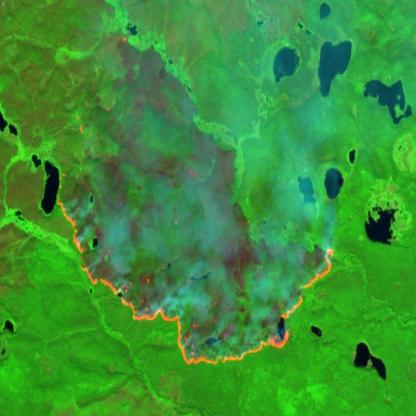fire: (58, 173, 336, 367)
